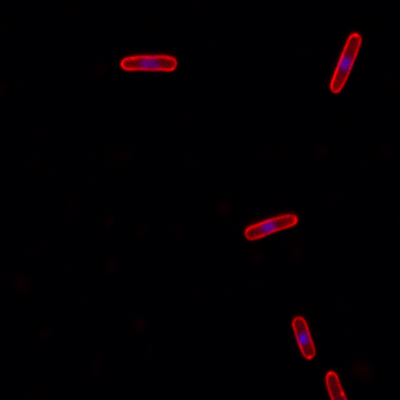Nalidixate: (327, 33, 364, 96), (243, 213, 298, 241), (290, 314, 317, 361), (119, 54, 178, 74)
